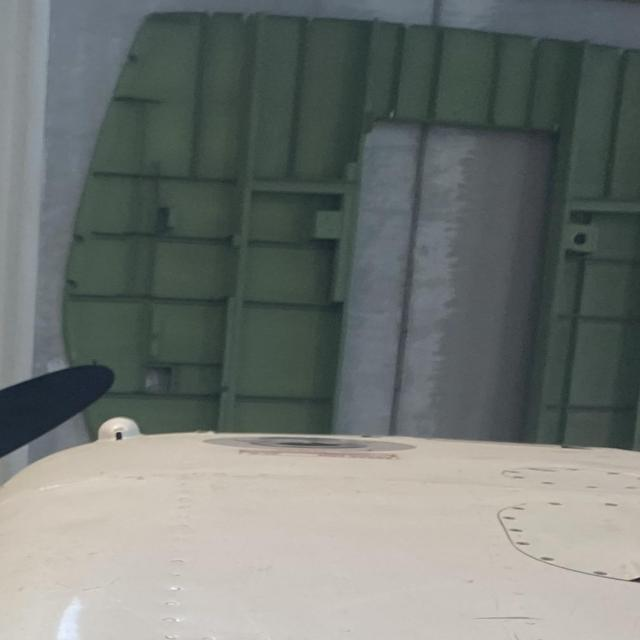Scratch: (478, 612, 543, 621), (509, 626, 534, 640)
